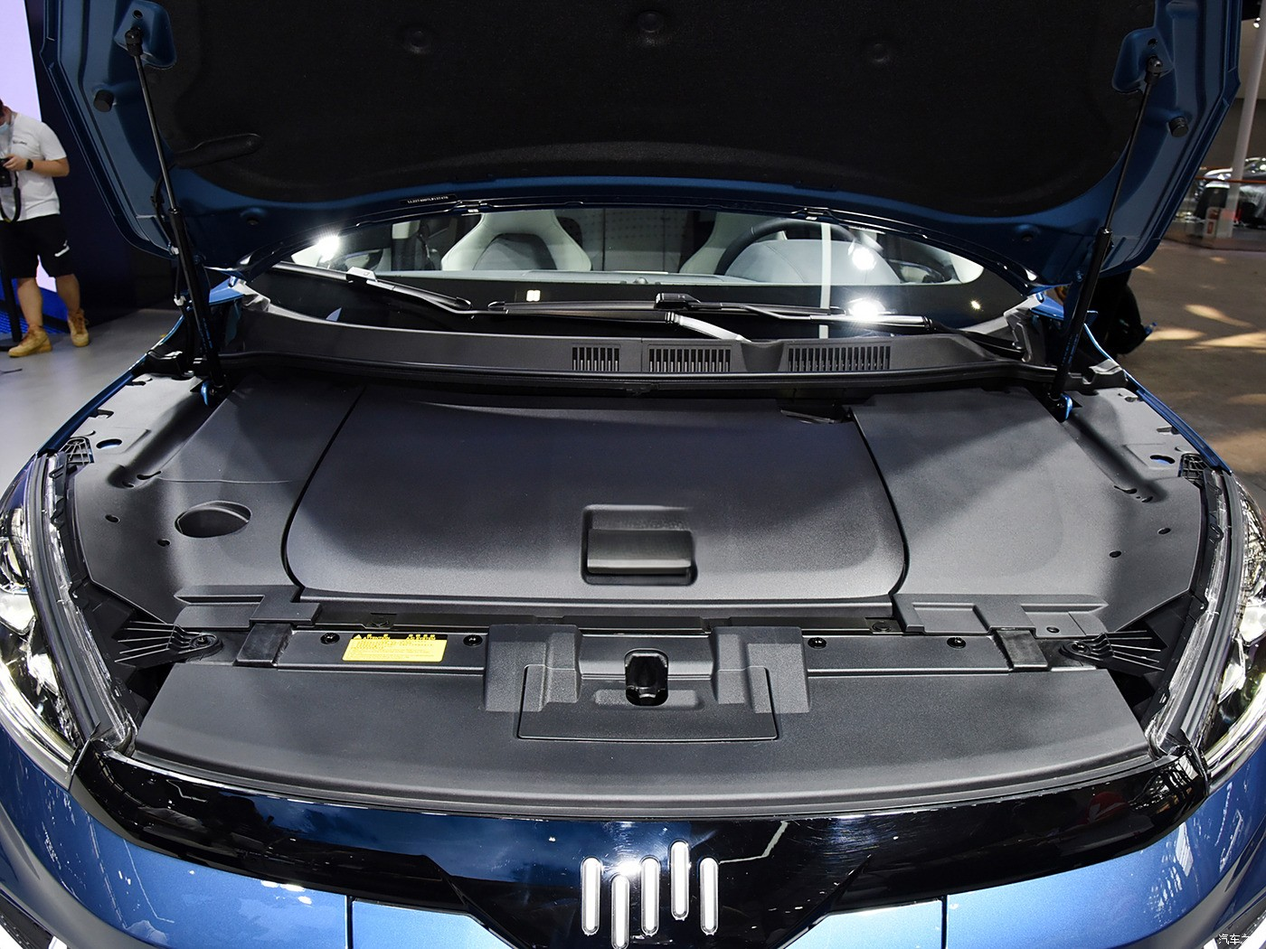WELTMEISTER: (582, 842, 717, 948)
